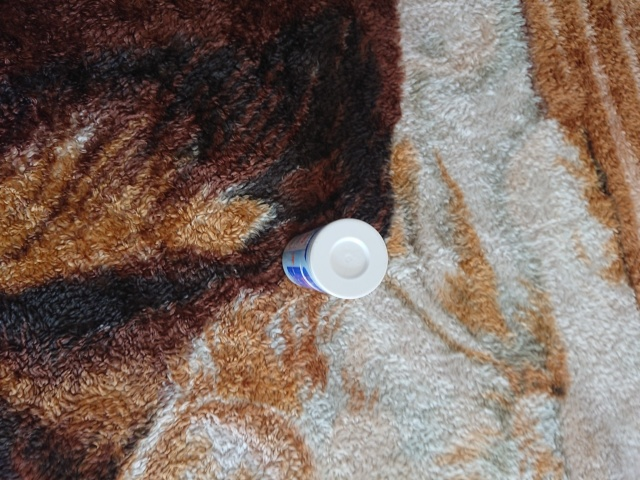Solana Pag Fine Sea Salt 250g: (279, 215, 390, 302)
